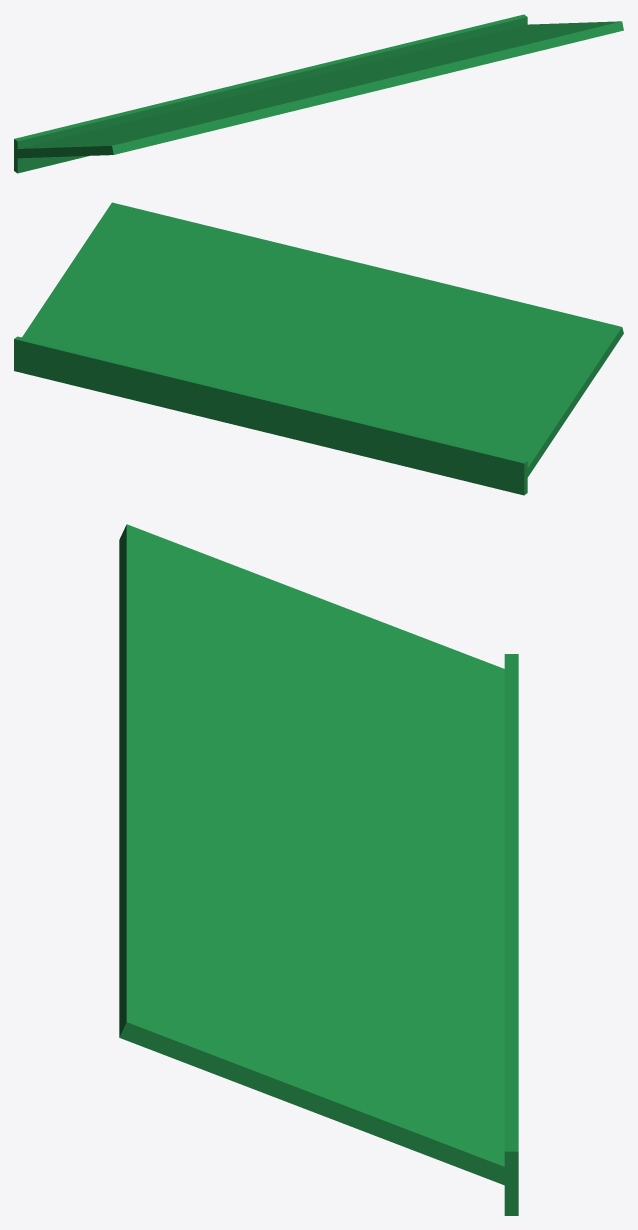
Rendered from env_awning_green.fbx.
3 renders of one model, top to bottom at view 1: azimuth 30°, elevation 25°; view 2: azimuth 150°, elevation 25°; view 3: azimuth 270°, elevation 25°, orthographic. The views are drawn at different scales.
Parts seen in each view (by area): view 1: env_awning_green_geo; view 2: env_awning_green_geo; view 3: env_awning_green_geo.
Boxes of the visible parts, left/top/right/bottom form: env_awning_green_geo: left=14, top=14, right=623, bottom=173; env_awning_green_geo: left=14, top=202, right=623, bottom=495; env_awning_green_geo: left=119, top=524, right=518, bottom=1215.
Bounding box in the file's own units: 5 × 0.9073 × 1.69.
